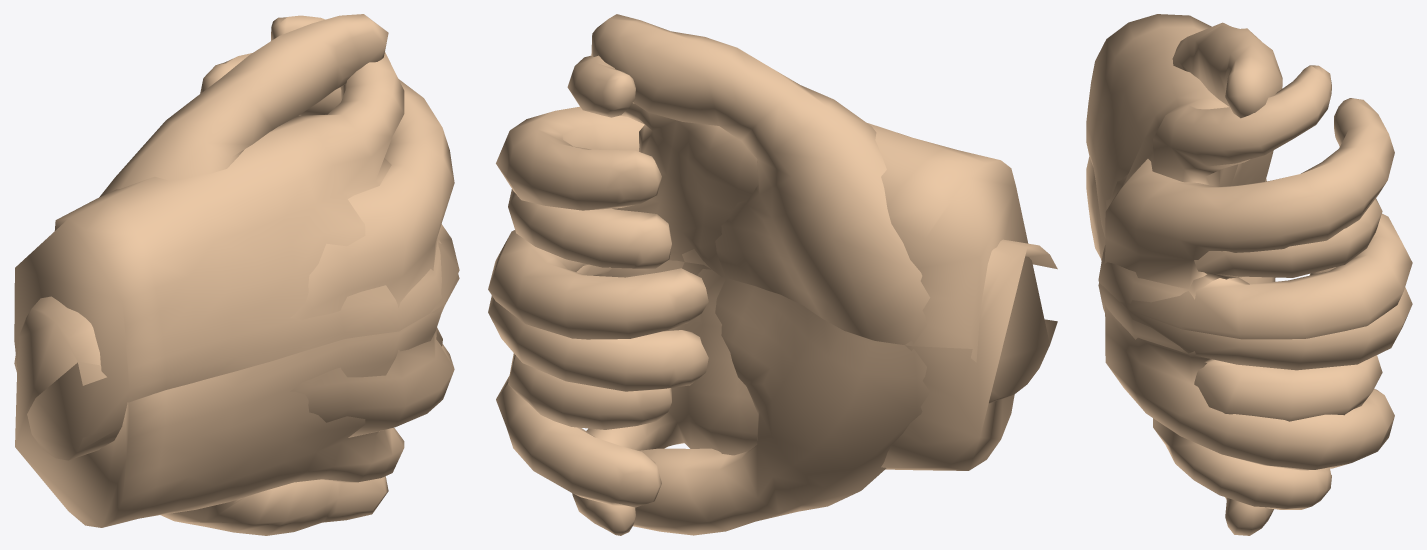
File: hand_grip.glb
The picture shows the model from 3 angles, left to right: view 1: azimuth 30°, elevation 25°; view 2: azimuth 150°, elevation 25°; view 3: azimuth 270°, elevation 25°; orthographic projection. The views are drawn at different scales.
Visible parts, largest first — view 1: hand_L, hand_R; view 2: hand_R, hand_L; view 3: hand_R, hand_L.
Part boxes in pixels (<box>): hand_L: <box>14,15,459,535</box>; hand_R: <box>14,14,459,527</box>; hand_R: <box>488,14,1057,535</box>; hand_L: <box>488,55,1057,535</box>; hand_R: <box>1086,22,1412,509</box>; hand_L: <box>1086,14,1412,535</box>.
Bounding box in the file's own units: 0.1343 × 0.1442 × 0.0904.
